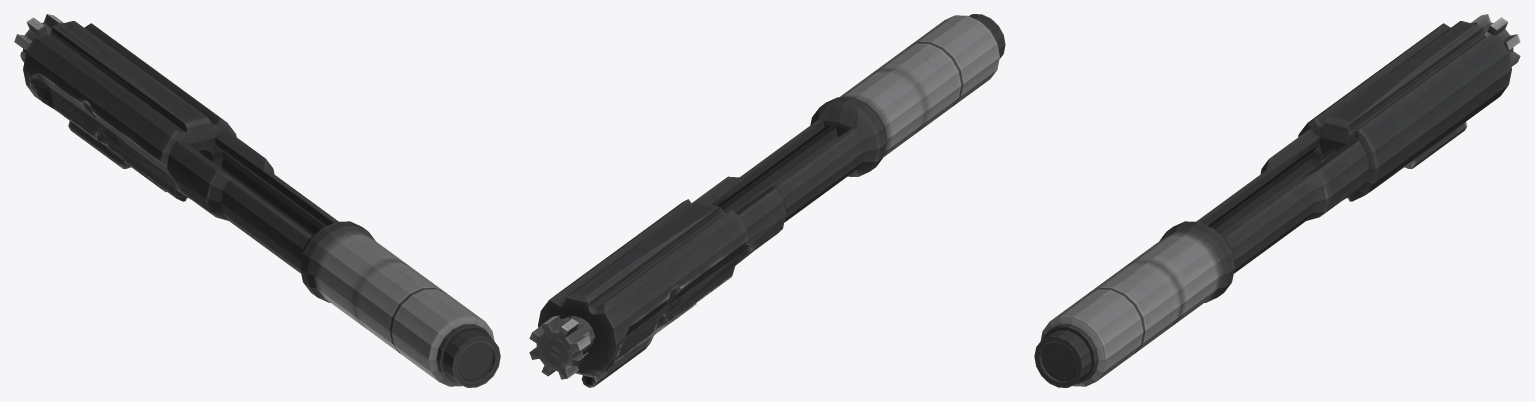
The picture shows the model from 3 angles, left to right: view 1: azimuth 30°, elevation 25°; view 2: azimuth 150°, elevation 25°; view 3: azimuth 330°, elevation 25°; orthographic projection. The views are drawn at different scales.
Parts seen in each view (by area): view 1: TW_5a367e5dc4a282000e49738f_PZ_Import; view 2: TW_5a367e5dc4a282000e49738f_PZ_Import; view 3: TW_5a367e5dc4a282000e49738f_PZ_Import.
Boxes of the visible parts, bbox=[...] form: TW_5a367e5dc4a282000e49738f_PZ_Import: bbox=[14, 14, 500, 387]; TW_5a367e5dc4a282000e49738f_PZ_Import: bbox=[529, 14, 1005, 387]; TW_5a367e5dc4a282000e49738f_PZ_Import: bbox=[1034, 14, 1520, 387].
Bounding box in the file's own units: 0.0167 × 0.1572 × 0.0201.
Materials: 1 (1 with a texture image).
